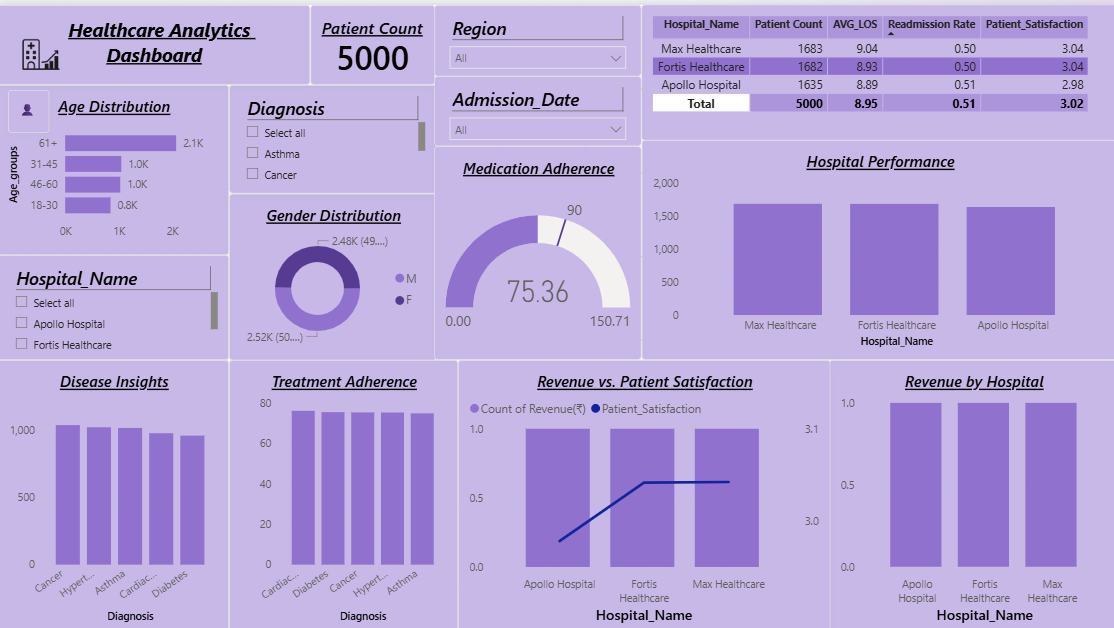

Layout of this report page (visuals, bound fields, positions):
{"tool":"powerbi","page":{"name":"Find Dashboard","canvas":[1280,720],"ordinal":1},"visuals":[{"type":"pivotTable","fields":{"Rows":["Hospital.Hospital_Name"],"Values":["CountNonNull(Patient.Patient_ID)","Patient.AVG_LOS","Patient.Readmission Rate (%)","Patient.Patient_Satisfaction"]},"box":[735.7,0,544.3,154.3],"z":0},{"type":"clusteredColumnChart","title":"Hospital Performance","fields":{"Category":["Hospital.Hospital_Name"],"Y":["CountNonNull(Patient.Patient_ID)"]},"box":[735.7,154.3,544.3,251.4],"z":1000},{"type":"slicer","fields":{"Values":["Patient.Region"]},"box":[498.6,0,237.1,81.4],"z":2000},{"type":"barChart","title":"Age Distribution","fields":{"Y":["CountNonNull(Patient.Patient_ID)"],"Category":["Patient.Age_groups"]},"box":[0,91.4,264.3,194.3],"z":3000},{"type":"donutChart","title":"Gender Distribution","fields":{"Category":["Patient.Gender"],"Y":["CountNonNull(Patient.Patient_ID)"]},"box":[264.3,215.7,237.1,190],"z":4000},{"type":"slicer","fields":{"Values":["Patient.Diagnosis"]},"box":[264.3,91.4,237.1,124.3],"z":5000},{"type":"slicer","fields":{"Values":["Hospital.Hospital_Name"]},"box":[0,285.7,264.3,120],"z":6000},{"type":"slicer","fields":{"Values":["Patient.Admission_Date"]},"box":[498.6,81.4,237.1,80],"z":7000},{"type":"gauge","title":"Medication Adherence","fields":{"TargetValue":["Patient.Target Value"],"Y":["Patient.Avg_of_Treament_Adherence"]},"box":[498.6,161.4,237.1,244.3],"z":8000},{"type":"columnChart","title":"Disease Insights","fields":{"Category":["Patient.Diagnosis"],"Y":["CountNonNull(Patient.Patient_ID)"]},"box":[0,405.7,264.3,314.3],"z":9000},{"type":"clusteredColumnChart","title":"Revenue by Hospital","fields":{"Category":["Hospital.Hospital_Name"],"Y":["CountNonNull(Hospital.Revenue(₹))"]},"box":[950,405.7,330,314.3],"z":10000},{"type":"columnChart","title":"Treatment Adherence","fields":{"Category":["Patient.Diagnosis"],"Y":["Patient.Avg_of_Treament_Adherence"]},"box":[264.3,405.7,261.4,314.3],"z":11000},{"type":"lineStackedColumnComboChart","title":"Revenue vs. Patient Satisfaction","fields":{"Y2":["Patient.Patient_Satisfaction"],"Category":["Hospital.Hospital_Name"],"Y":["CountNonNull(Hospital.Revenue(₹))"]},"box":[525.7,405.7,425.7,314.3],"z":12000},{"type":"card","title":"Patient Count","fields":{"Values":["CountNonNull(Patient.Patient_ID)"]},"box":[356.7,0,142.2,91.1],"z":13000},{"type":"textbox","box":[0,0,357.1,91.4],"z":14000},{"type":"textbox","box":[11.4,97.1,47.1,48.6],"z":15000},{"type":"image","box":[0,0,94.3,112.9],"z":16000}]}

Visuals, with their boxes in screenshot pixels (x1, y1, x2, y2), scaled from the page's 1280x720 canvas onto the 1114x628 screenshot:
pivotTable - Hospital.Hospital_Name x CountNonNull(Patient.Patient_ID): region(640, 0, 1113, 135)
"Hospital Performance" clusteredColumnChart: region(640, 135, 1113, 354)
slicer - Patient.Region: region(434, 0, 640, 71)
"Age Distribution" barChart: region(0, 80, 230, 249)
"Gender Distribution" donutChart: region(230, 188, 436, 354)
slicer - Patient.Diagnosis: region(230, 80, 436, 188)
slicer - Hospital.Hospital_Name: region(0, 249, 230, 354)
slicer - Patient.Admission_Date: region(434, 71, 640, 141)
"Medication Adherence" gauge: region(434, 141, 640, 354)
"Disease Insights" columnChart: region(0, 354, 230, 627)
"Revenue by Hospital" clusteredColumnChart: region(827, 354, 1113, 627)
"Treatment Adherence" columnChart: region(230, 354, 458, 627)
"Revenue vs. Patient Satisfaction" lineStackedColumnComboChart: region(458, 354, 828, 627)
"Patient Count" card: region(310, 0, 434, 79)
textbox: region(0, 0, 311, 80)
textbox: region(10, 85, 51, 127)
image: region(0, 0, 82, 98)
